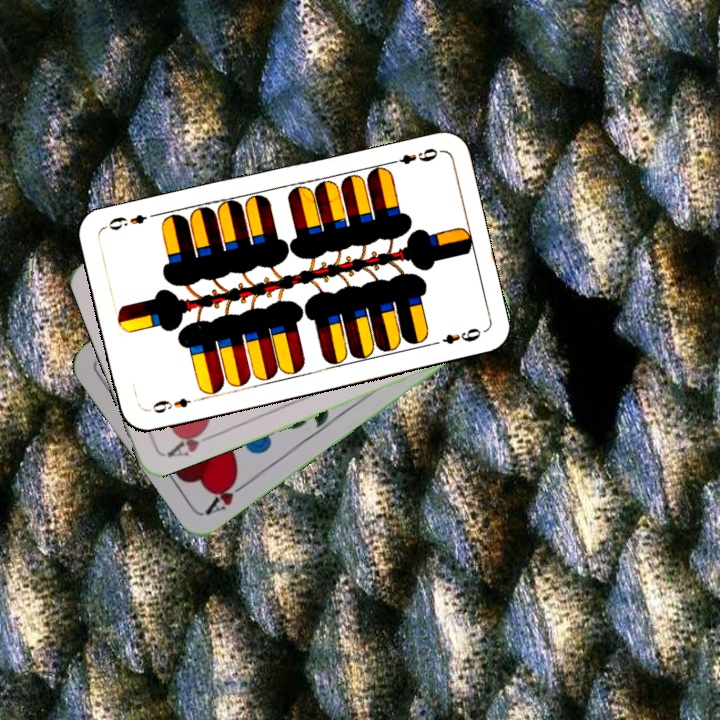E9: (384, 144, 443, 168), (143, 393, 193, 416)
HA: (202, 473, 254, 517), (161, 421, 218, 460)
